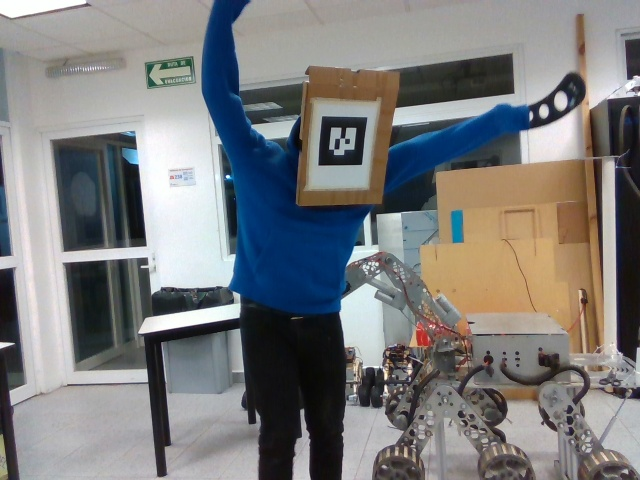ar3: (317, 114, 370, 167)
